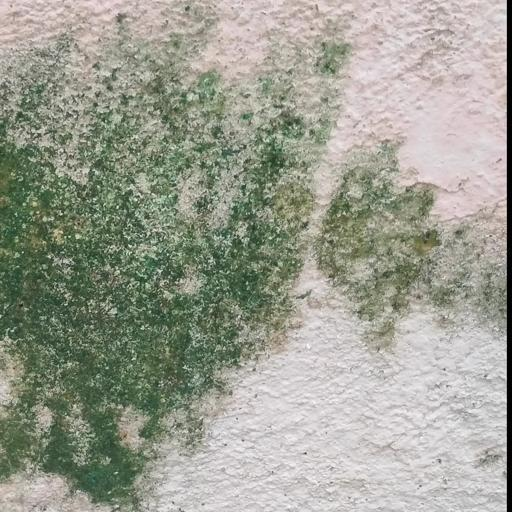algae: (0, 24, 481, 457)
